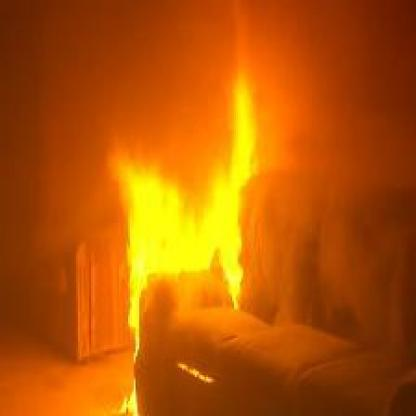fire: (94, 89, 256, 387)
